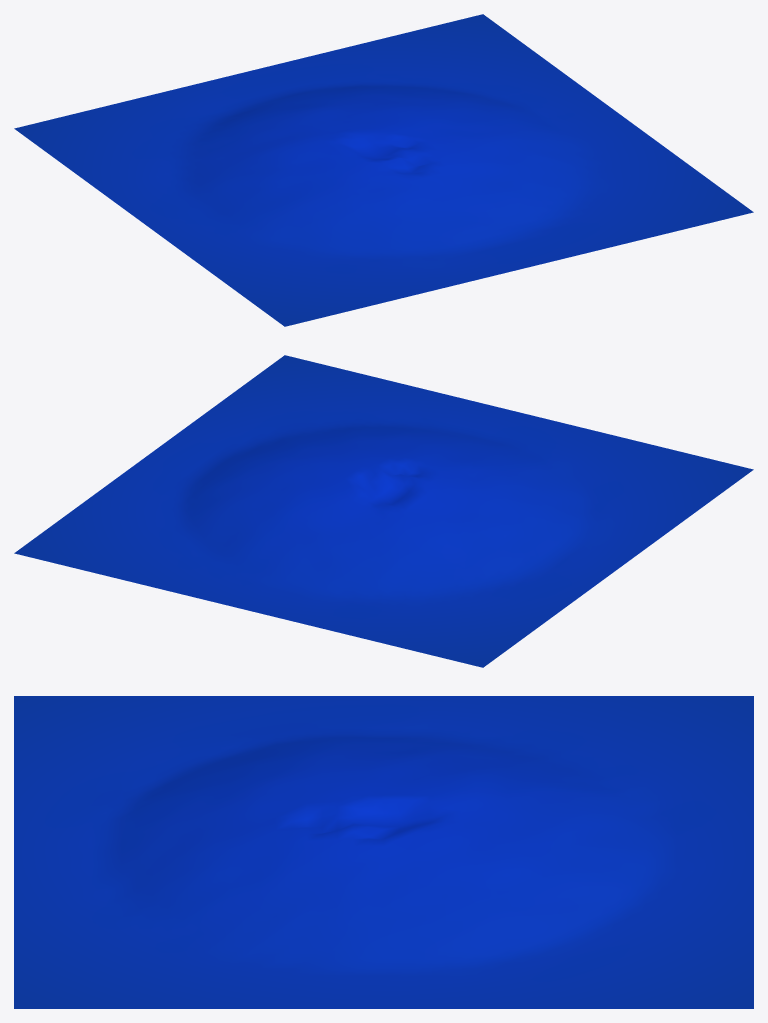
Rendered from lamp_hole_covered.glb.
3 views of the same model, one above another, from view 1: azimuth 30°, elevation 25°; view 2: azimuth 150°, elevation 25°; view 3: azimuth 270°, elevation 25° (orthographic). The views are drawn at different scales.
Parts seen in each view (by area): view 1: lamp_hole_covered; view 2: lamp_hole_covered; view 3: lamp_hole_covered.
Part boxes in pixels (x1,y1,x2,y2): lamp_hole_covered: [14, 14, 753, 326]; lamp_hole_covered: [14, 355, 753, 667]; lamp_hole_covered: [14, 696, 753, 1008].
Size of what is drawn, in the model's own units: 1.2 by 0.0627 by 1.2.
